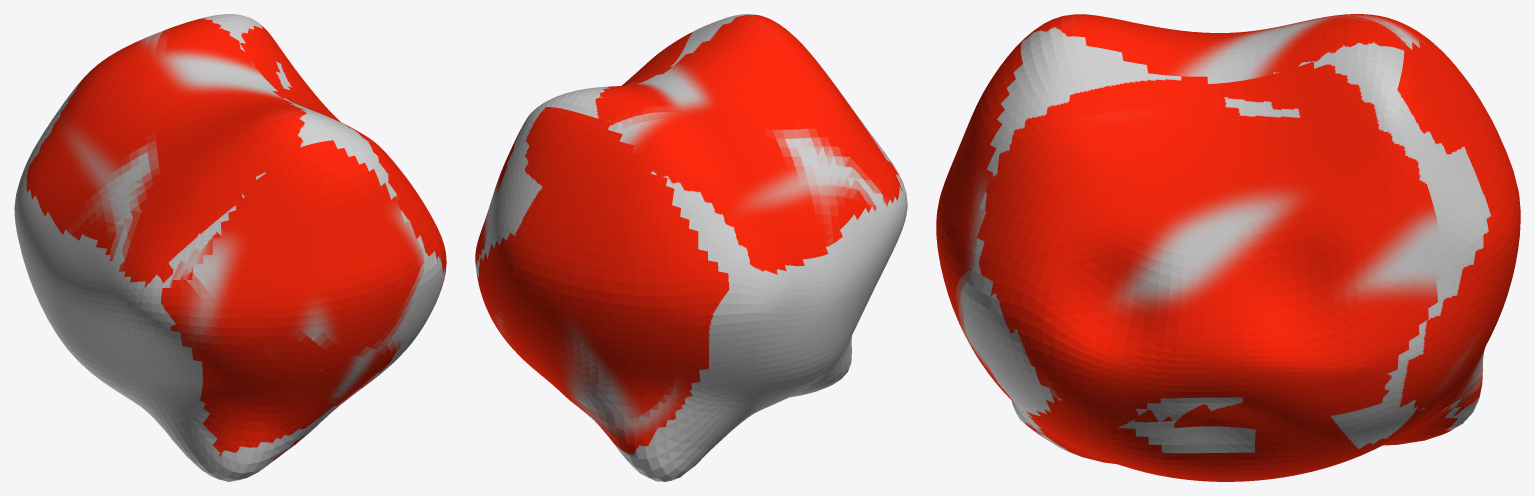
File: chromeguy.obj
The picture shows the model from 3 angles, left to right: view 1: azimuth 30°, elevation 25°; view 2: azimuth 150°, elevation 25°; view 3: azimuth 270°, elevation 25°; orthographic projection. The views are drawn at different scales.
Visible parts, largest first — view 1: chromeguy_Cube; view 2: chromeguy_Cube; view 3: chromeguy_Cube.
Part boxes in pixels (left/top/right/bottom): chromeguy_Cube: left=14, top=14, right=446, bottom=481; chromeguy_Cube: left=475, top=14, right=907, bottom=481; chromeguy_Cube: left=936, top=14, right=1520, bottom=481.
Size of the model in its own units: 2.64 by 2.61 by 3.07.
Materials: 1 (1 with a texture image).
